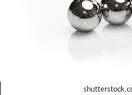ironball: (64, 0, 104, 32), (102, 0, 131, 26)
